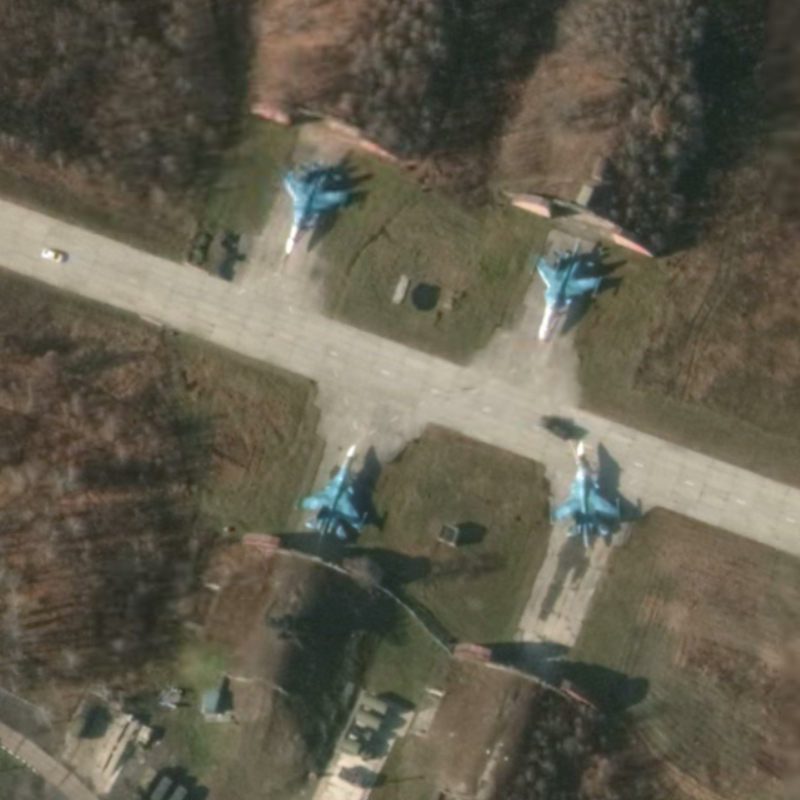A19: (547, 439, 624, 551), (291, 442, 370, 548), (528, 239, 606, 341), (279, 161, 352, 255)
